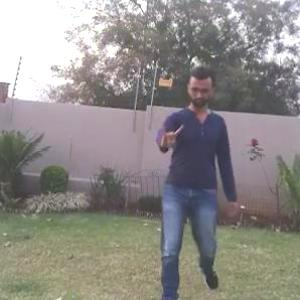takeoff-hand: (157, 117, 185, 155)
